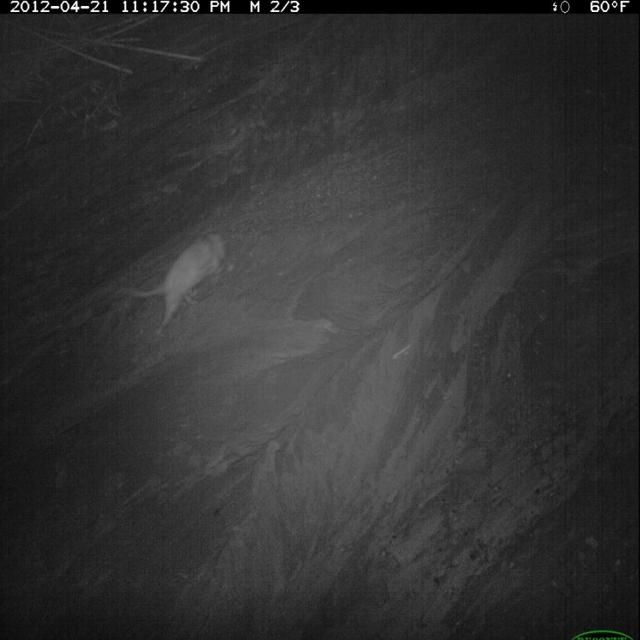opossum: (126, 226, 233, 344)
